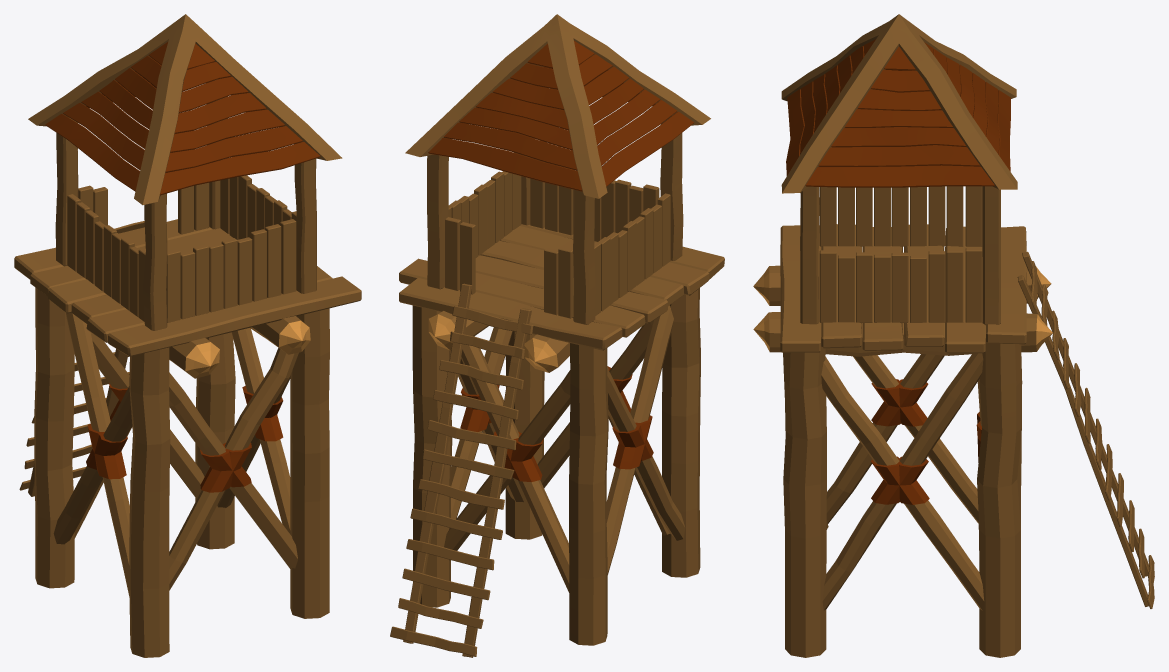
The model's file is viking tower2.fbx.
3 views of the same model, side by side, from view 1: azimuth 30°, elevation 25°; view 2: azimuth 150°, elevation 25°; view 3: azimuth 270°, elevation 25° (orthographic). The views are drawn at different scales.
Parts seen in each view (by area): view 1: tower2; view 2: tower2; view 3: tower2.
Boxes of the visible parts, x1,y1,x2,y2 form: tower2: [14, 14, 361, 657]; tower2: [390, 14, 724, 657]; tower2: [753, 14, 1154, 657].
Size of the model in its own units: 452 by 1053 by 643.
